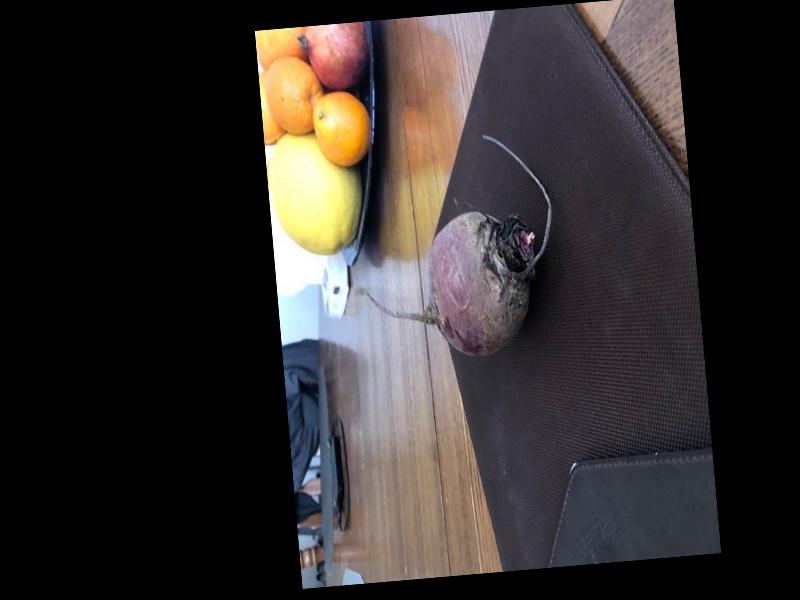Beet: (353, 129, 563, 365)
